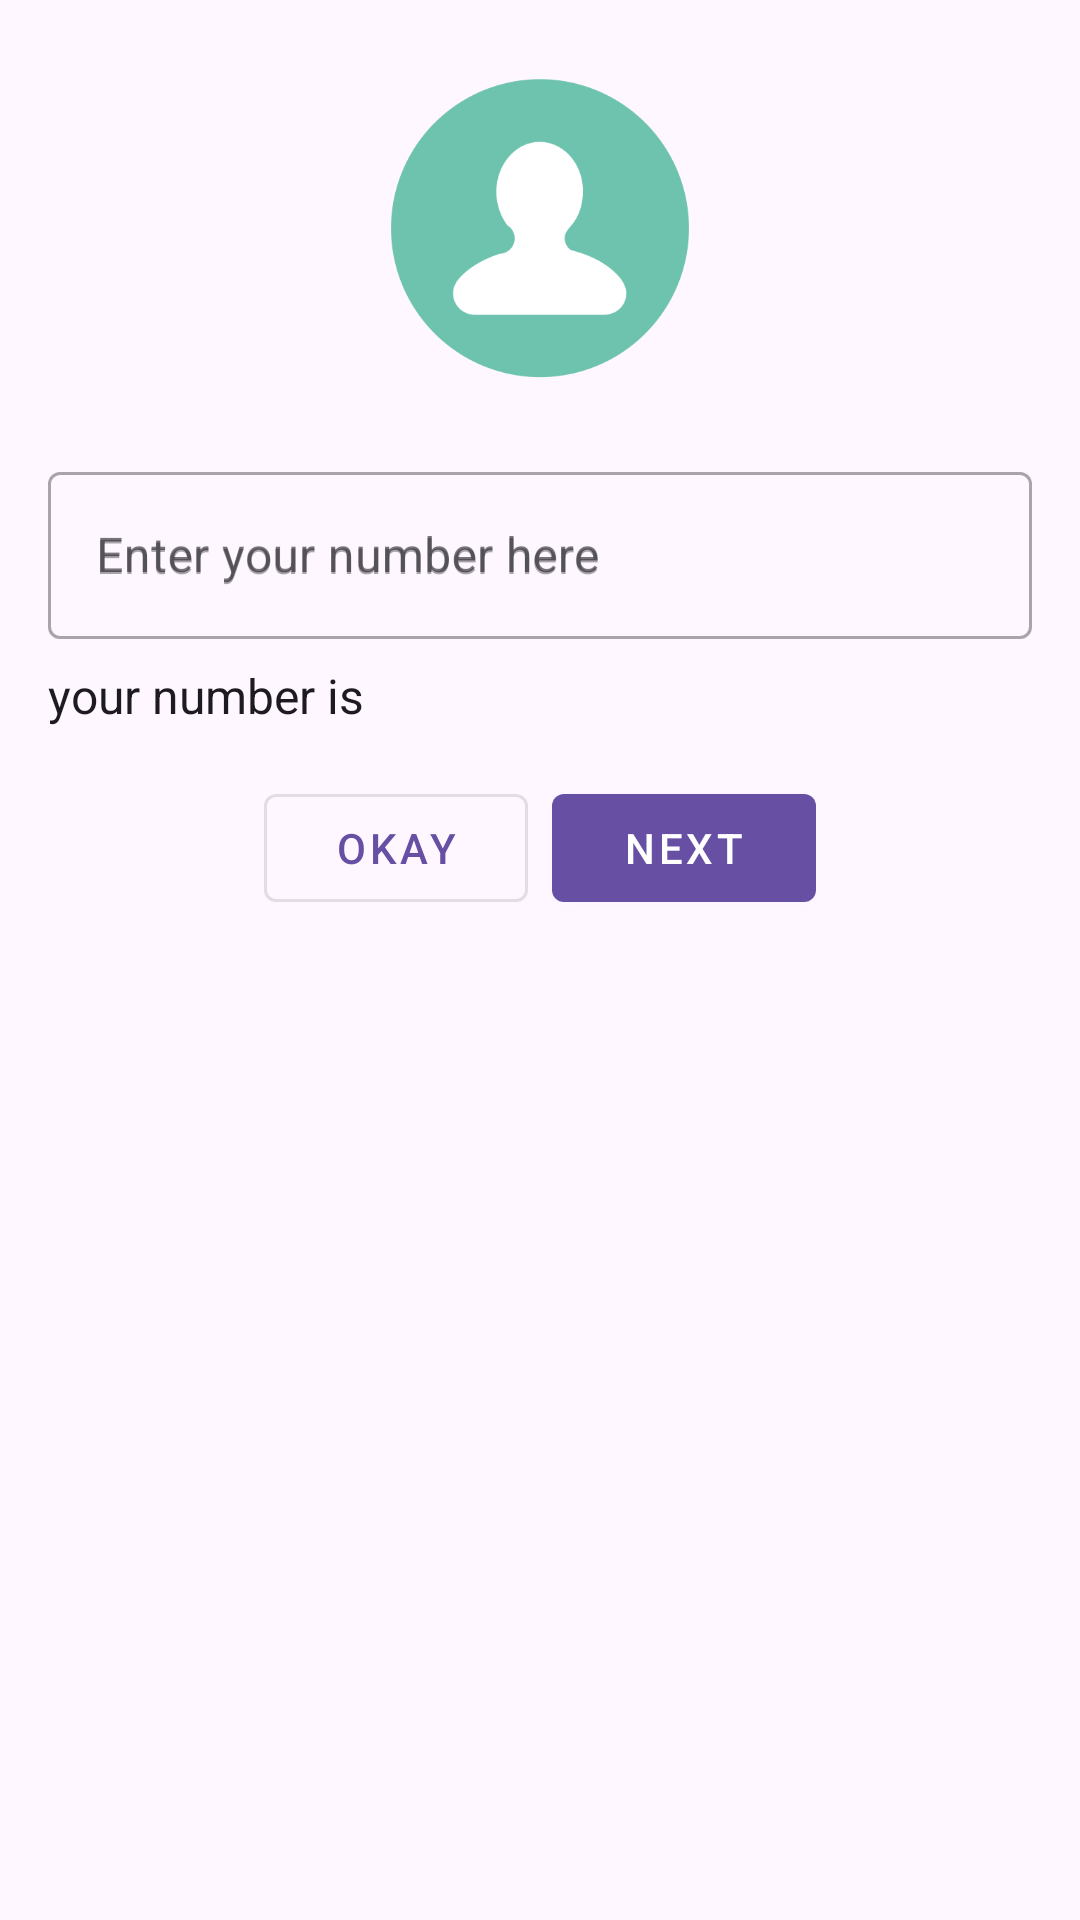

Point at icon controls on the screen. Image size 1080px×1920px, points as point (x, y).
person icon: point (540, 228)
